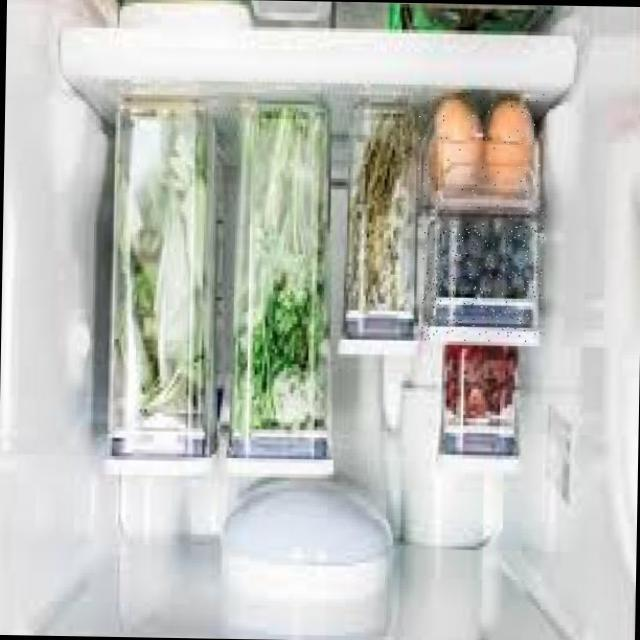Huevos: (415, 90, 545, 222)
blueberries: (420, 221, 542, 341)
